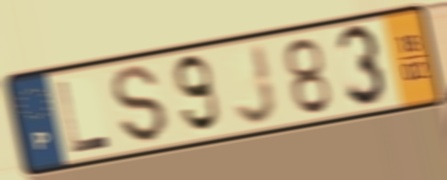3: (333, 21, 391, 112)
8: (282, 36, 333, 116)
9: (171, 54, 223, 138)
J: (232, 41, 281, 128)
L: (54, 77, 115, 157)
S: (109, 63, 171, 146)
